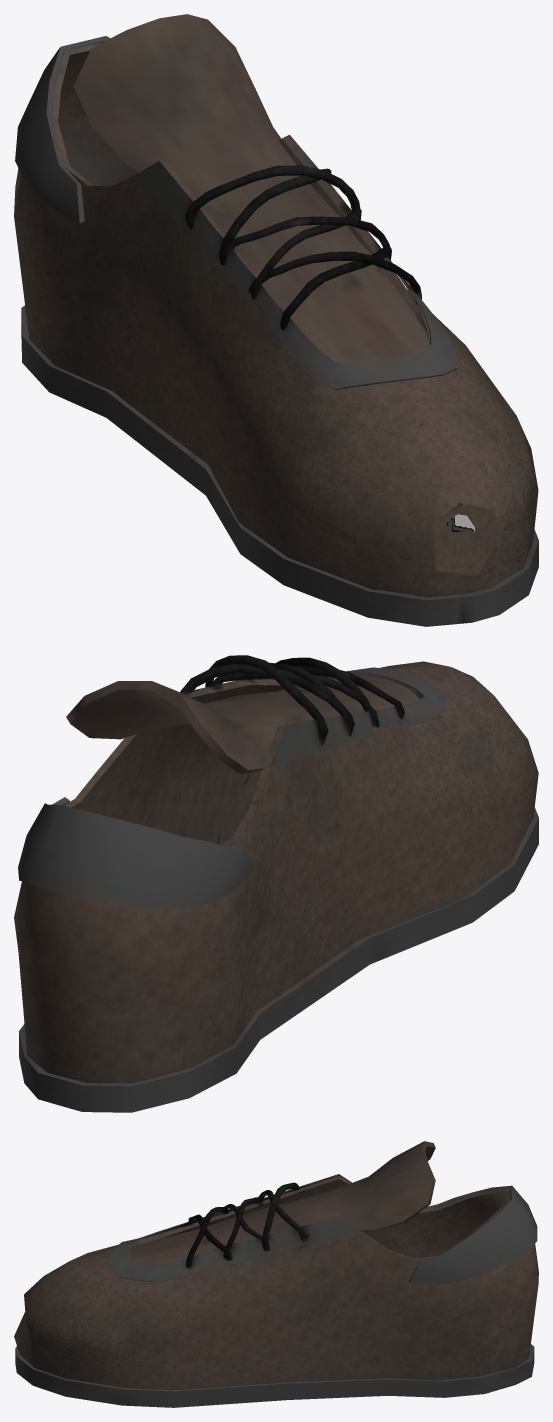
Rendered from New shoe.fbx.
3 views of the same model, one above another, from view 1: azimuth 30°, elevation 25°; view 2: azimuth 150°, elevation 25°; view 3: azimuth 270°, elevation 25° (orthographic). The views are drawn at different scales.
Visible parts, largest first — view 1: polySurface1, polySurface2, pCube1, pPlane1, pPlane2, _Soccer_Shoes_v1_l3:lace, lace1, lace; view 2: polySurface1, pPlane2, pCube1, polySurface2, pPlane1, _Soccer_Shoes_v1_l3:lace, lace1, lace; view 3: polySurface1, polySurface2, pCube1, pPlane2, pPlane1, _Soccer_Shoes_v1_l3:lace, lace1, lace.
Boxes of the visible parts, x1=… form: polySurface1: x1=14, y1=42, x2=538, y2=597; polySurface2: x1=73, y1=14, x2=429, y2=365; pCube1: x1=21, y1=305, x2=538, y2=626; pPlane1: x1=136, y1=134, x2=457, y2=389; pPlane2: x1=15, y1=36, x2=110, y2=223; _Soccer_Shoes_v1_l3:lace: x1=185, y1=165, x2=361, y2=266; lace1: x1=248, y1=246, x2=421, y2=329; lace: x1=219, y1=208, x2=391, y2=299; polySurface1: x1=14, y1=661, x2=538, y2=1083; pPlane2: x1=18, y1=797, x2=255, y2=906; pCube1: x1=19, y1=807, x2=538, y2=1112; polySurface2: x1=66, y1=674, x2=419, y2=774; pPlane1: x1=181, y1=667, x2=448, y2=764; _Soccer_Shoes_v1_l3:lace: x1=180, y1=655, x2=352, y2=745; lace1: x1=276, y1=657, x2=404, y2=726; lace: x1=213, y1=662, x2=379, y2=728; polySurface1: x1=14, y1=1176, x2=538, y2=1389; polySurface2: x1=130, y1=1141, x2=435, y2=1280; pCube1: x1=15, y1=1344, x2=534, y2=1407; pPlane2: x1=409, y1=1185, x2=537, y2=1283; pPlane1: x1=109, y1=1174, x2=359, y2=1282; _Soccer_Shoes_v1_l3:lace: x1=258, y1=1182, x2=308, y2=1251; lace1: x1=186, y1=1207, x2=233, y2=1268; lace: x1=222, y1=1197, x2=271, y2=1260.
Size of the model in its own units: 19.91 by 27.59 by 59.07.
